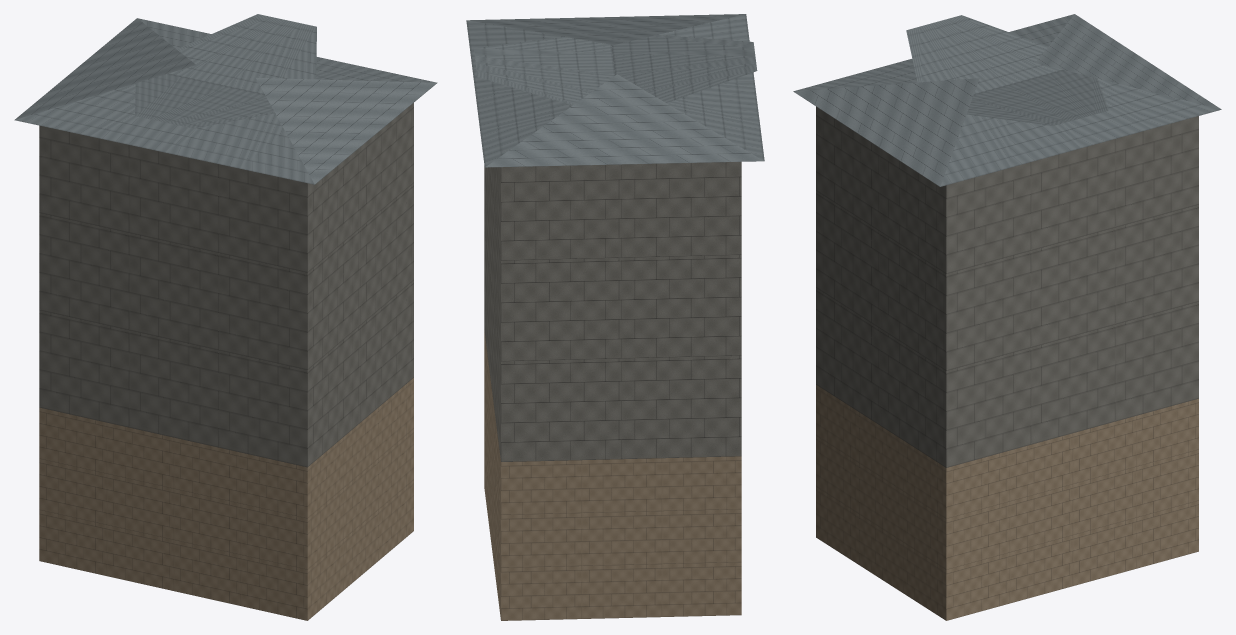
File: bld_c31_-24_540.gltf
3 views of the same model, side by side, from view 1: azimuth 30°, elevation 25°; view 2: azimuth 150°, elevation 25°; view 3: azimuth 270°, elevation 25° (orthographic). The views are drawn at different scales.
Parts seen in each view (by area): view 1: bld_c31_-24_540; view 2: bld_c31_-24_540; view 3: bld_c31_-24_540.
Boxes of the visible parts, left/top/right/bottom form: bld_c31_-24_540: left=14, top=14, right=437, bottom=620; bld_c31_-24_540: left=466, top=14, right=764, bottom=620; bld_c31_-24_540: left=793, top=14, right=1221, bottom=620.
Size of the model in its own units: 12.37 by 15.8 by 12.96.
Materials: 3 (3 with a texture image).
